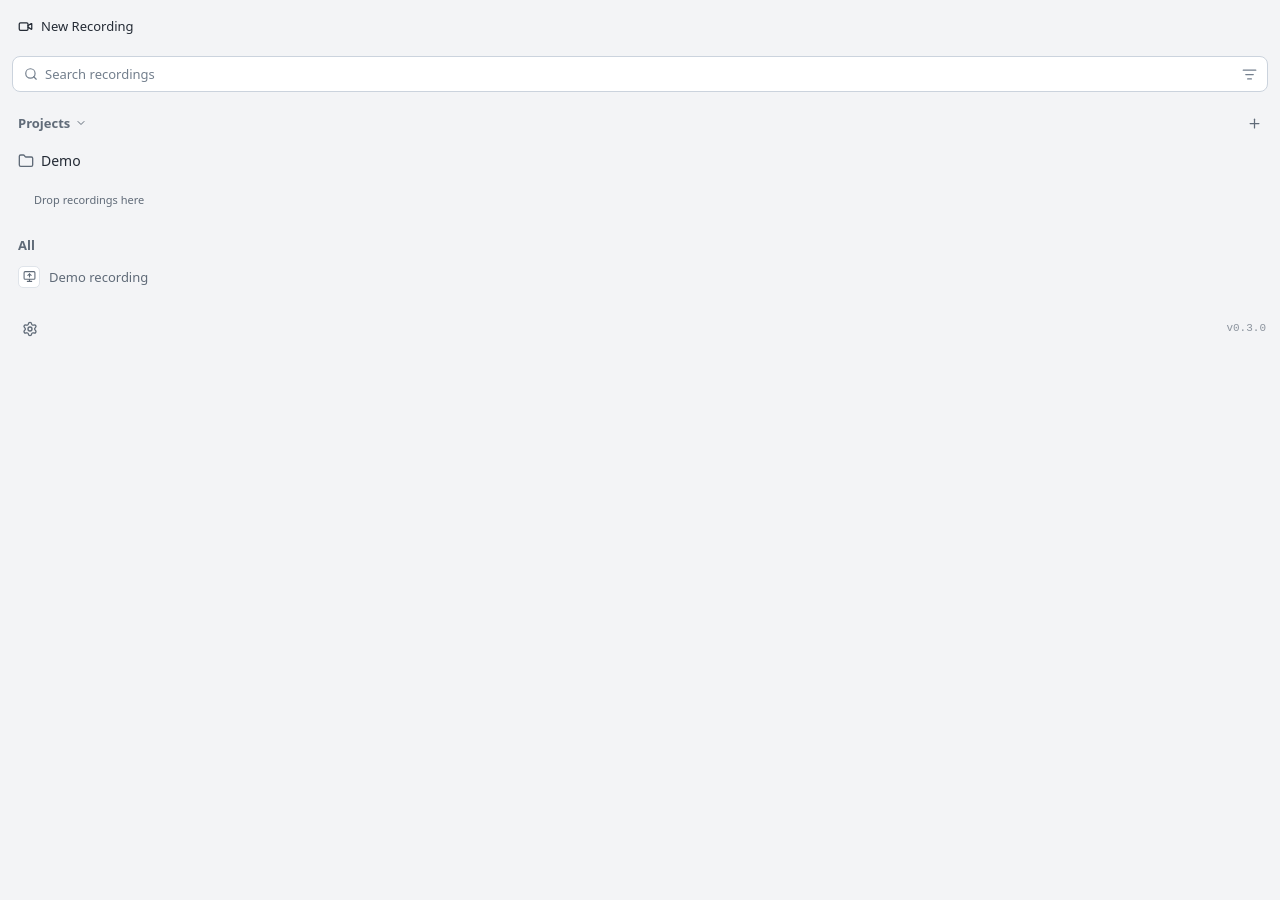
Scenario: HistorySidebar context menus › opens project actions from the project heading
Right-click the button "Demo" at (61, 161), box [8,144,1268,178]
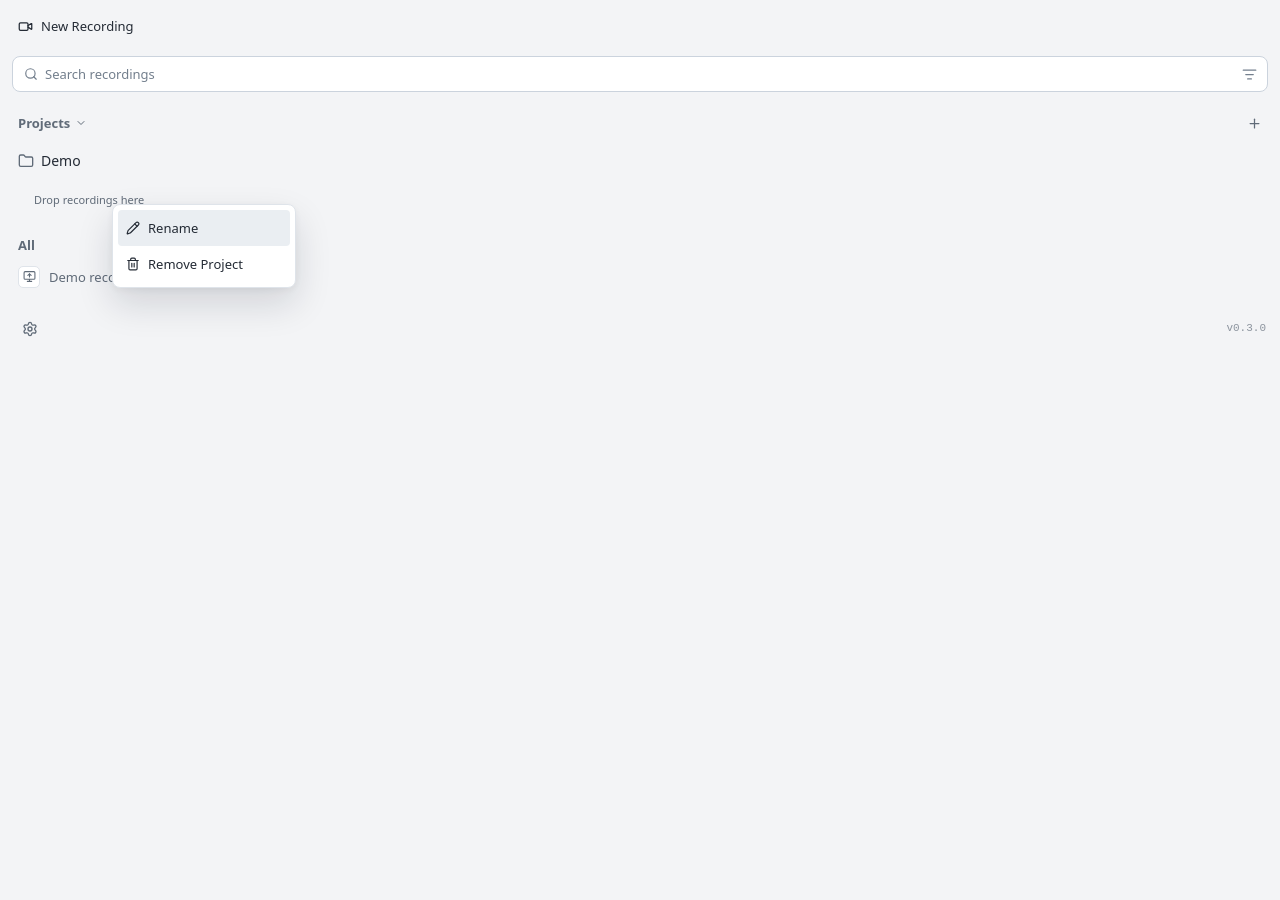
Result: the menu named "Project actions: Demo" is shown at [112,204,296,288]
Result: the menu item "Rename" is shown at [118,210,290,246]
Result: the menu item "Remove Project" is shown
Click the menu item "Remove Project" at (204, 264), box [118,246,290,282]
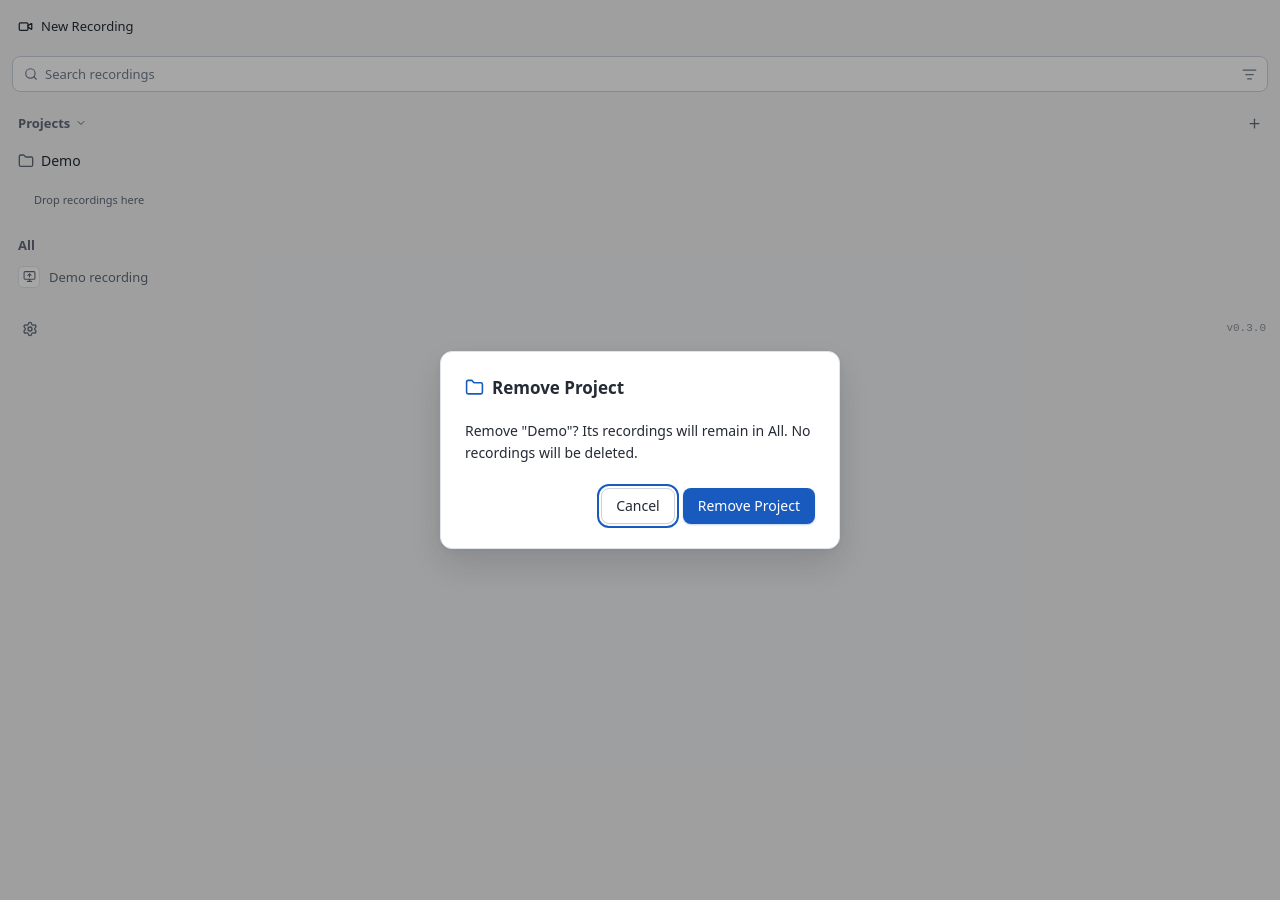
Result: the text "Remove \"Demo\"? Its recordings will remain in All. No recordings will be deleted." is shown at [465,420,815,464]
